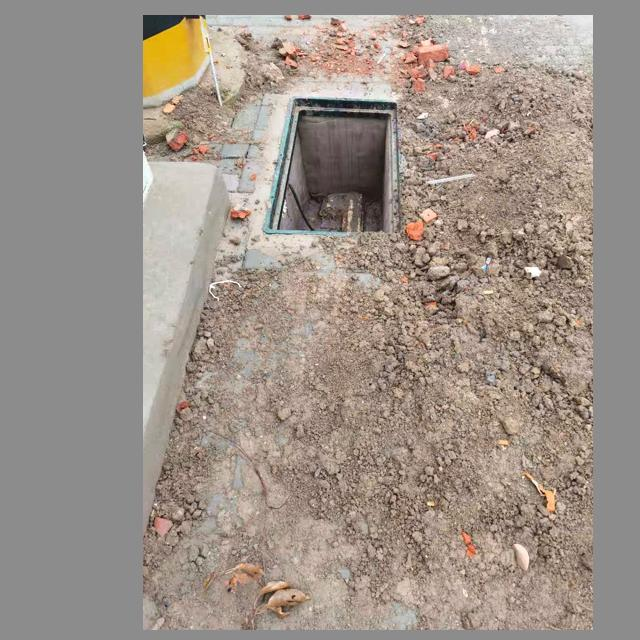lose: (261, 93, 411, 243)
